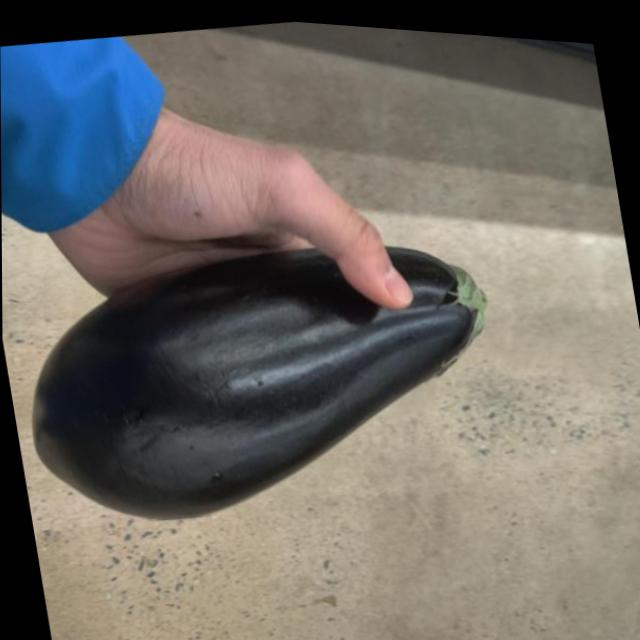Eggplant: (6, 203, 518, 558)
